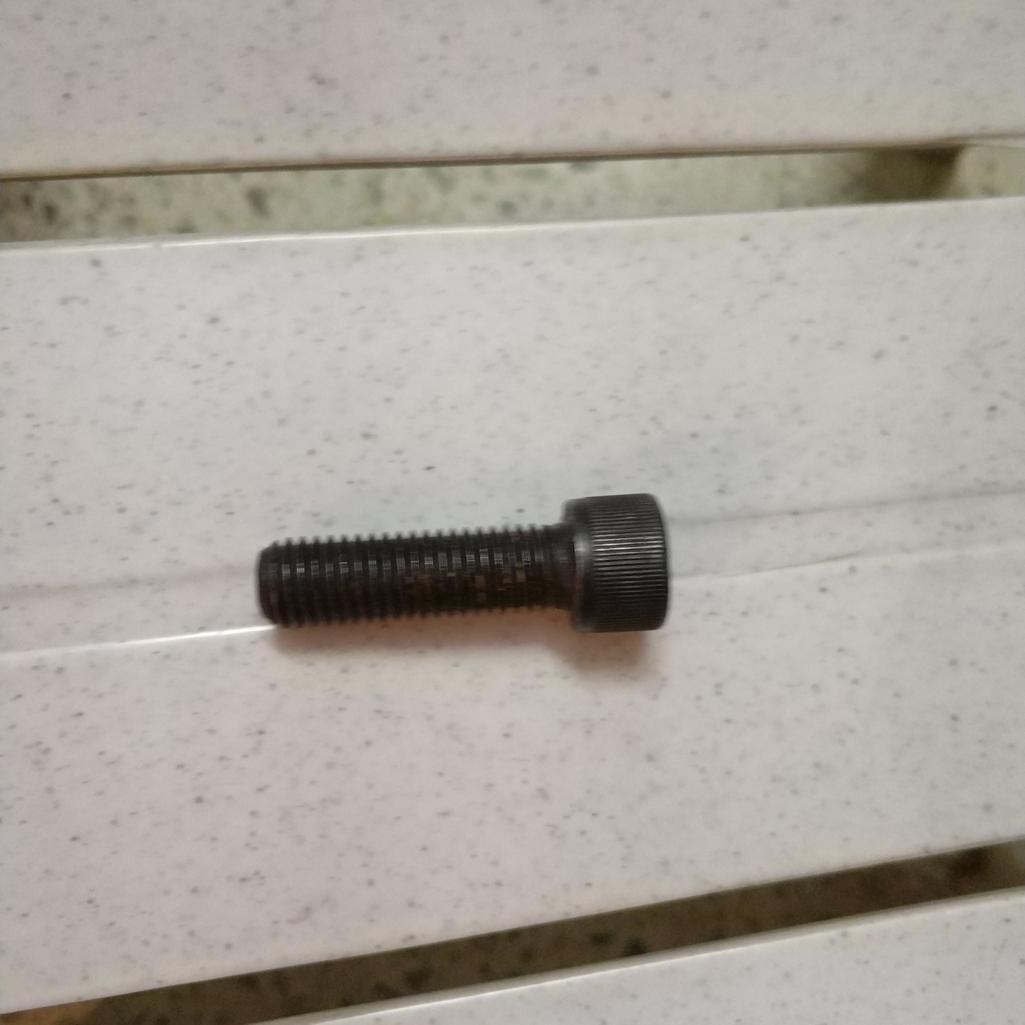screwtype1black: (236, 484, 676, 655)
